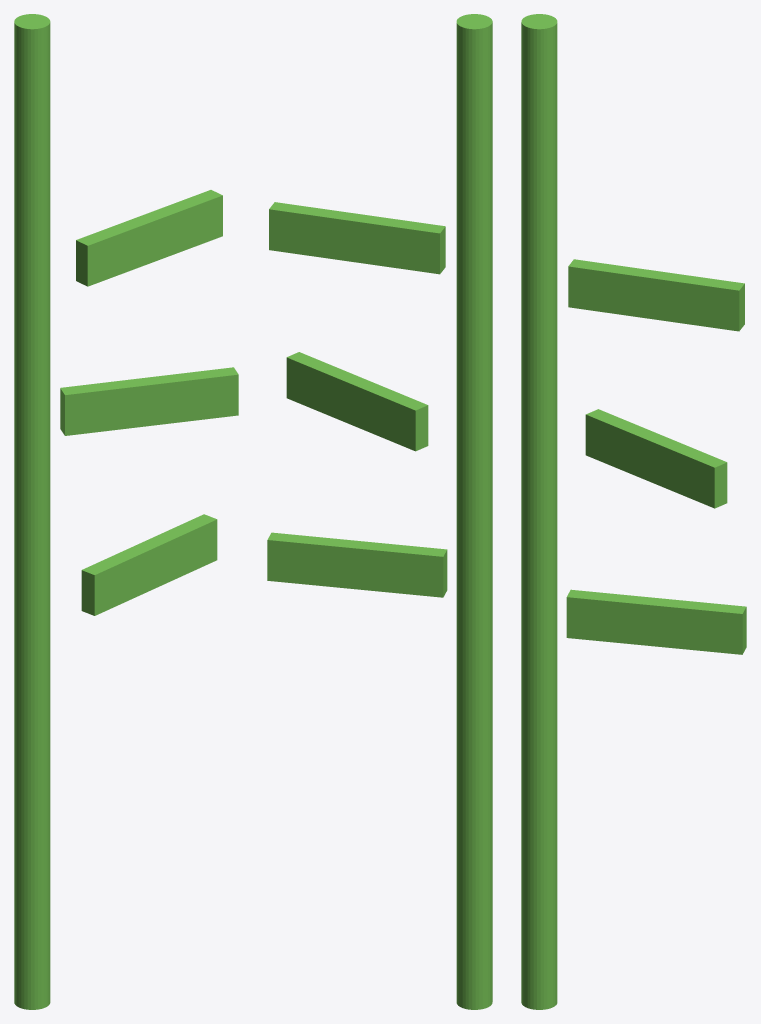
The model's file is corn_stalk.glb.
The picture shows the model from 3 angles, left to right: view 1: azimuth 30°, elevation 25°; view 2: azimuth 150°, elevation 25°; view 3: azimuth 330°, elevation 25°; orthographic projection.
Visible parts, largest first — view 1: Leaf2; view 2: Leaf2; view 3: Leaf2.
Boxes of the visible parts, left/top/right/bottom form: Leaf2: left=14, top=14, right=238, bottom=1009; Leaf2: left=267, top=14, right=492, bottom=1009; Leaf2: left=521, top=14, right=746, bottom=1009.
Size of the model in its own units: 0.27 by 1.2 by 0.0782.
